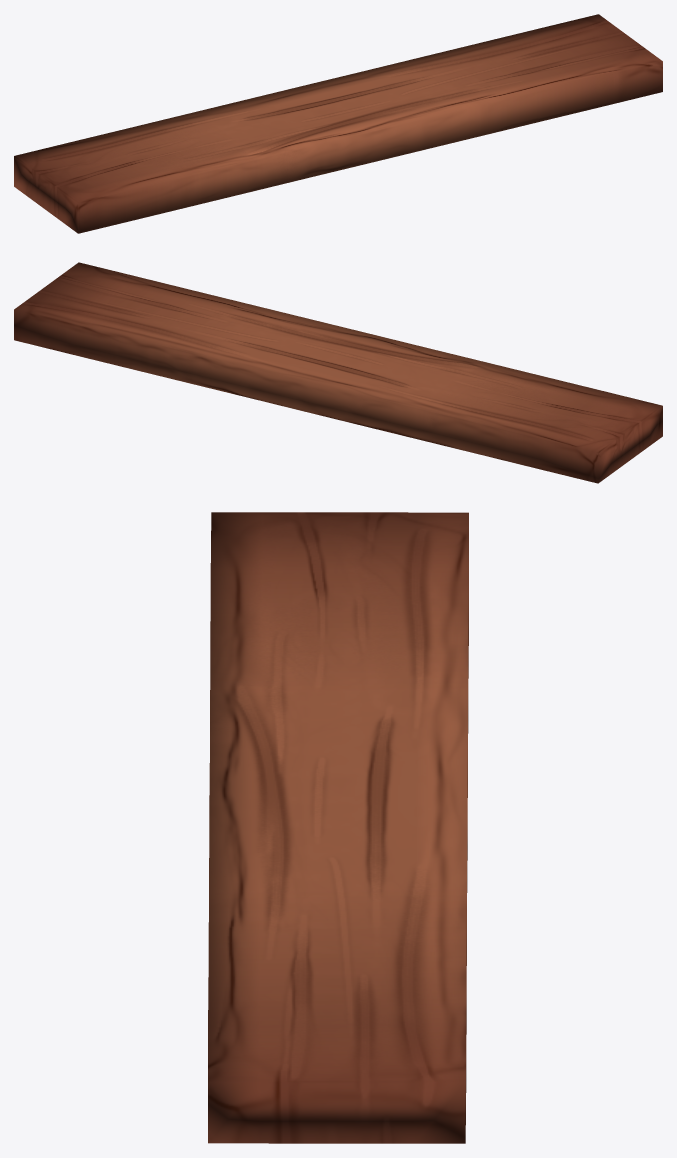
File: plank.fbx
3 renders of one model, top to bottom at view 1: azimuth 30°, elevation 25°; view 2: azimuth 150°, elevation 25°; view 3: azimuth 270°, elevation 25°, orthographic. The views are drawn at different scales.
Parts seen in each view (by area): view 1: plank; view 2: plank; view 3: plank.
Boxes of the visible parts, <box> form: plank: <box>14,14,662,233</box>; plank: <box>14,262,662,483</box>; plank: <box>208,512,468,1143</box>.
Size of the model in its own units: 256 by 12.82 by 49.55.
1 material, 1 textured.
